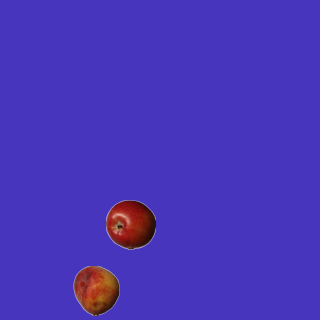Apple Braeburn: (105, 199, 155, 249)
Peach: (71, 265, 121, 315)
